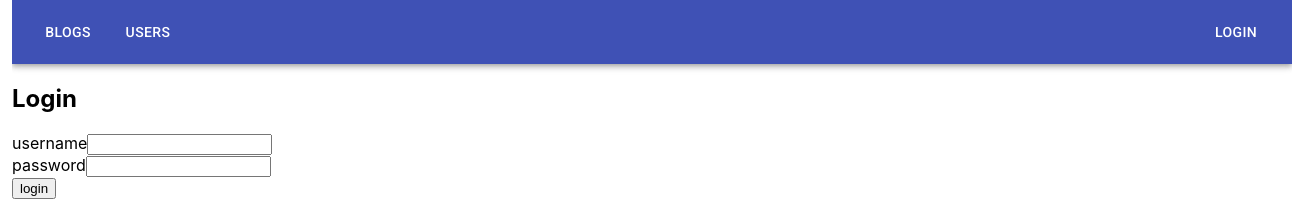
Test: BlogList › wrong user can't login
In the field with test id "username": (180, 145) [87,134,272,155], type "wronguser"
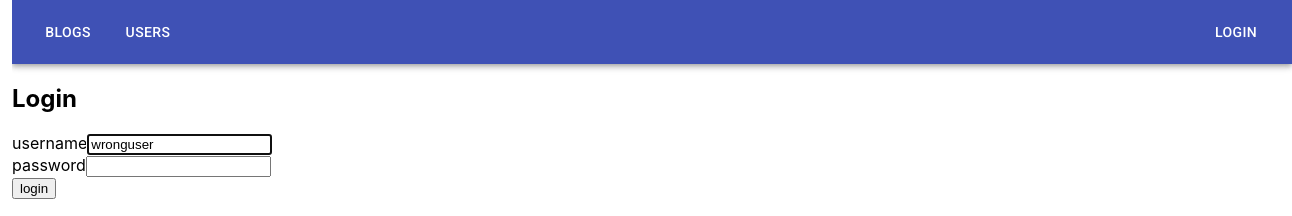
In the password field with test id "password": (179, 167) [86,156,271,177], type "wrongpass"
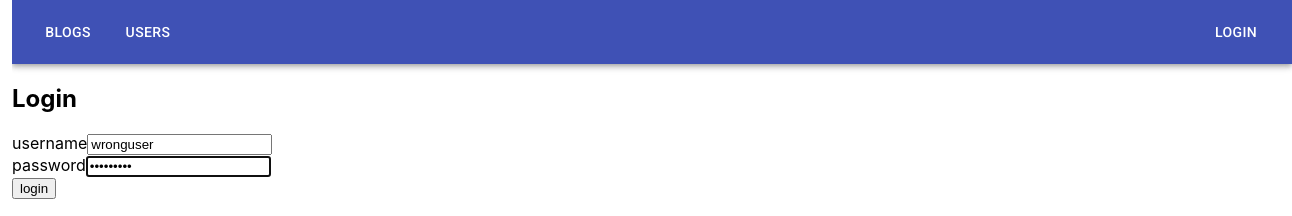
Click the button with test id "login": (34, 189) [12,178,56,199]
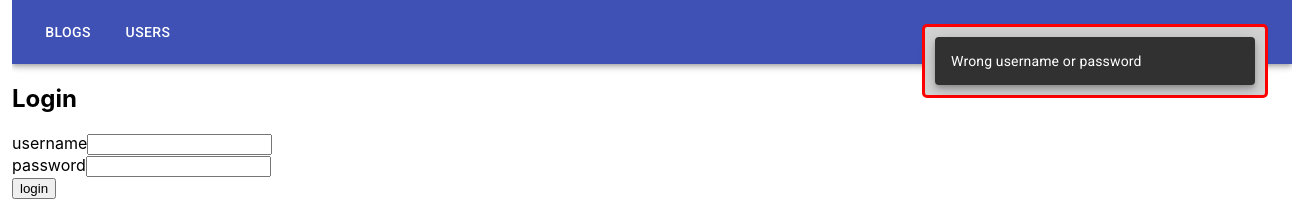
Check: the element with class "error" is shown, box [922,24,1268,98]
